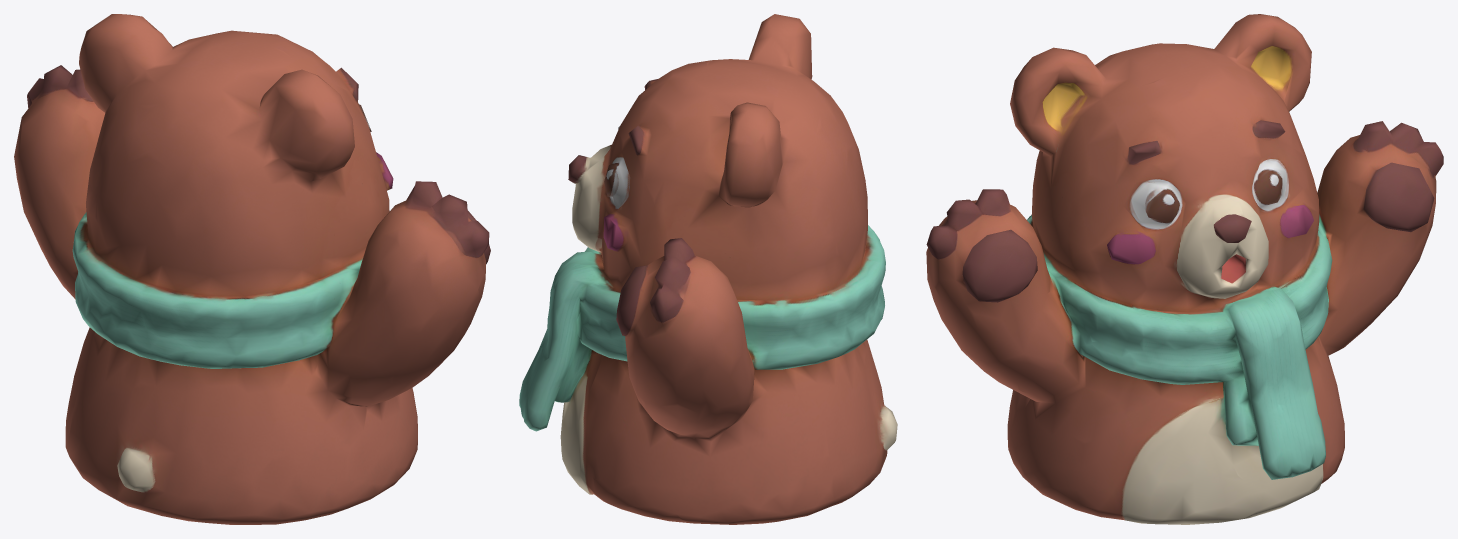
The model's file is bear.glb.
3 renders of one model, left to right at view 1: azimuth 30°, elevation 25°; view 2: azimuth 150°, elevation 25°; view 3: azimuth 270°, elevation 25°, orthographic. The views are drawn at different scales.
Parts seen in each view (by area): view 1: tripo_node_6dd068e4-7eca-489b-bc40-c57d50e7be16; view 2: tripo_node_6dd068e4-7eca-489b-bc40-c57d50e7be16; view 3: tripo_node_6dd068e4-7eca-489b-bc40-c57d50e7be16.
Boxes of the visible parts, x1,y1,x2,y2 form: tripo_node_6dd068e4-7eca-489b-bc40-c57d50e7be16: [14, 14, 490, 524]; tripo_node_6dd068e4-7eca-489b-bc40-c57d50e7be16: [519, 14, 897, 524]; tripo_node_6dd068e4-7eca-489b-bc40-c57d50e7be16: [926, 14, 1443, 524].
Size of the model in its own units: 0.6261 by 0.8137 by 0.9261.
1 material, 1 textured.
